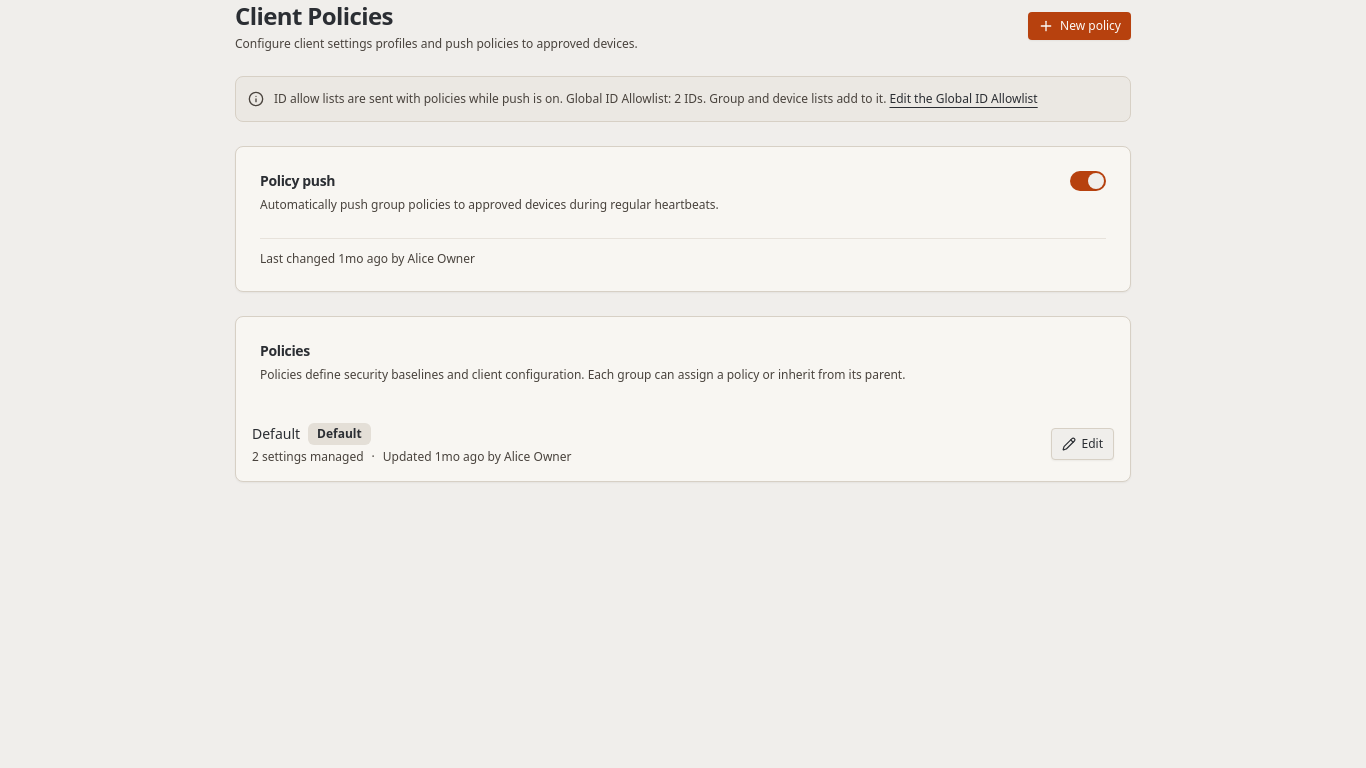
Test: PoliciesView › handles push-off 409 window_open error and keeps switch on
Step 1. Click the switch named "policy push" → (1088,180), box top-left (1070, 170), bottom-right (1106, 190)
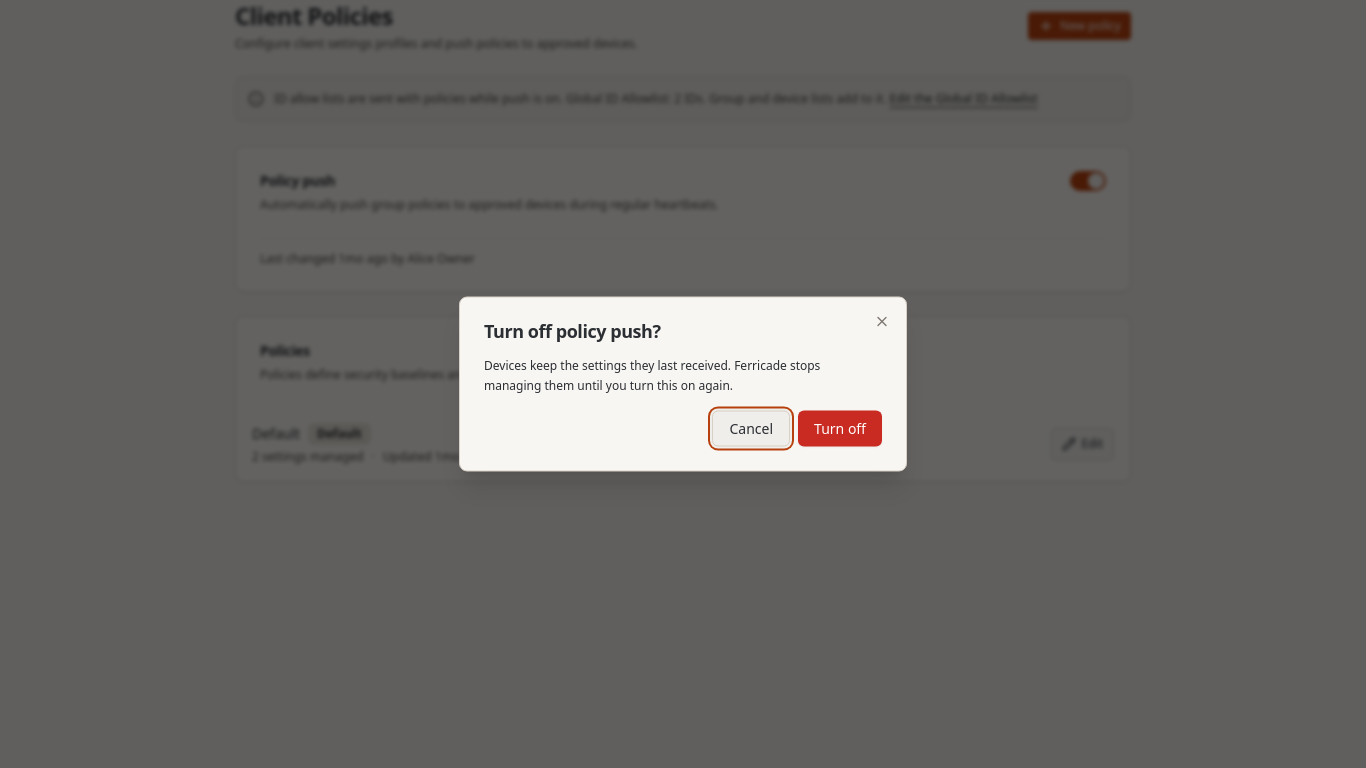
Step 2. Click the button "Turn off" → (840,428), box top-left (798, 410), bottom-right (882, 446)
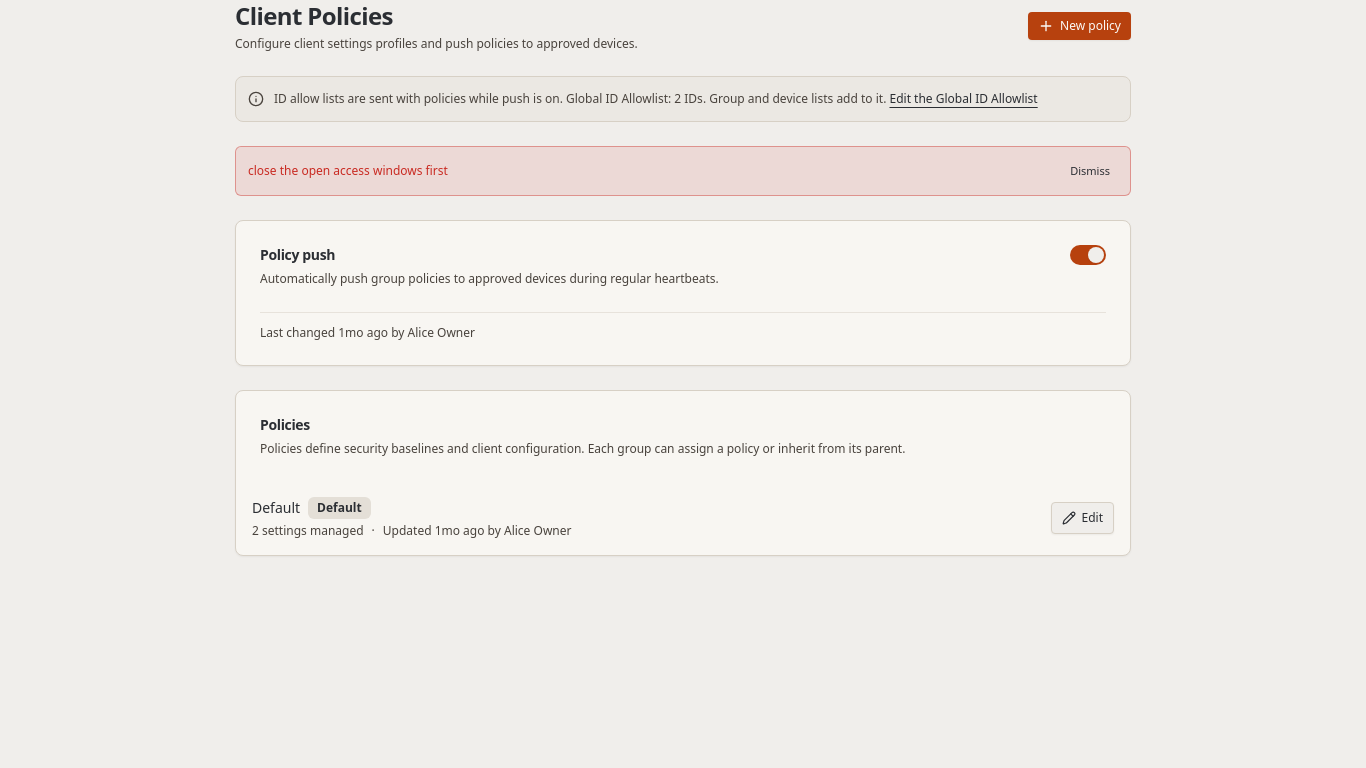
Expected: the switch named "policy push" is checked, top-left (1070, 244), bottom-right (1106, 264)
Result: the text "close the open access windows first" is shown at top-left (248, 162), bottom-right (448, 178)
